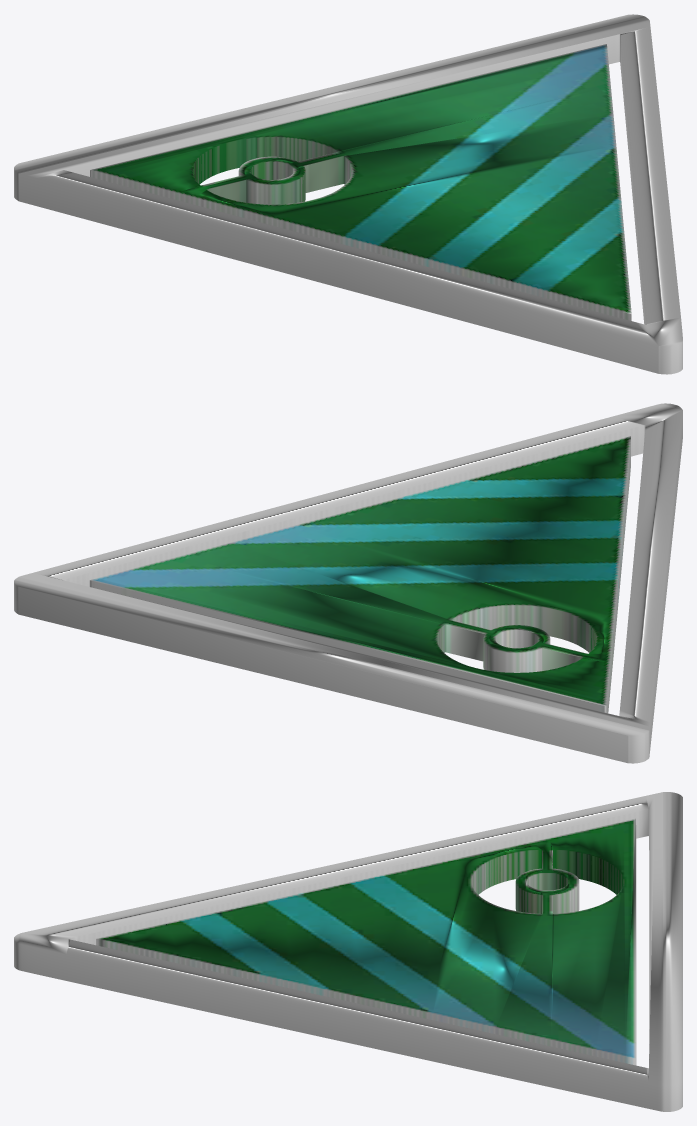
3 renders of one model, top to bottom at view 1: azimuth 30°, elevation 25°; view 2: azimuth 150°, elevation 25°; view 3: azimuth 270°, elevation 25°, orthographic. The views are drawn at different scales.
Visible parts, largest first — view 1: path1587; view 2: path1587; view 3: path1587.
Boxes of the visible parts, bbox=[...] form: path1587: bbox=[14, 14, 682, 374]; path1587: bbox=[14, 403, 682, 763]; path1587: bbox=[14, 792, 682, 1111].
Bounding box in the file's own units: 71.54 × 3 × 68.93.
Materials: 1 (1 with a texture image).
